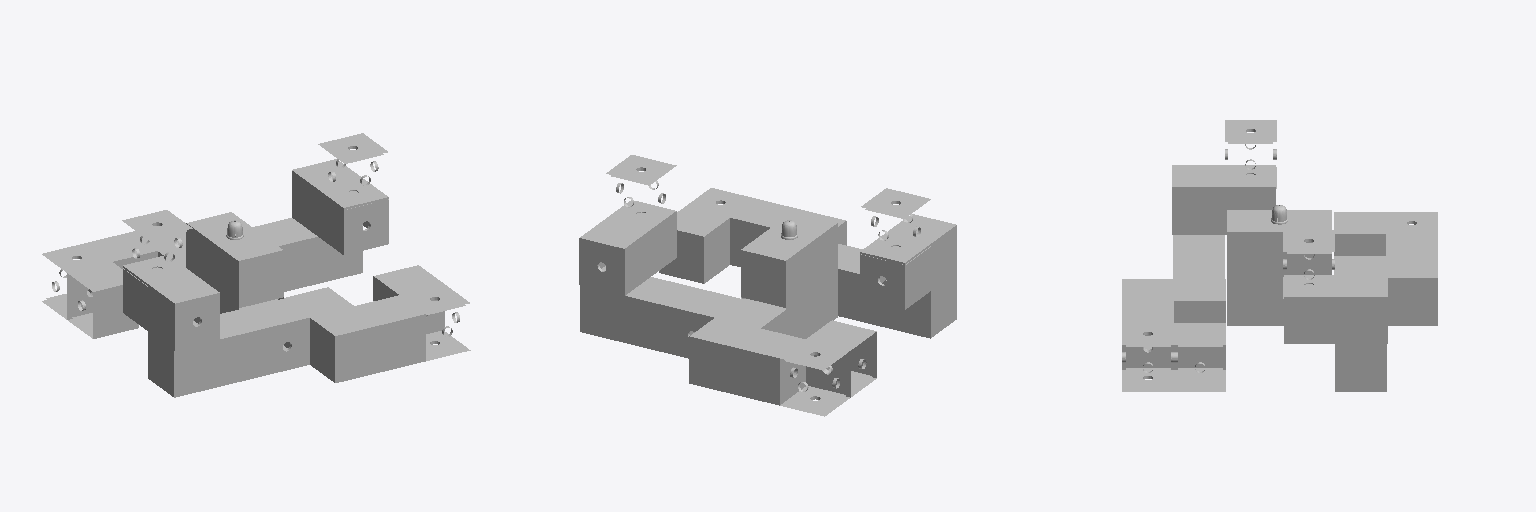
The model's file is KUBO 1 isi.obj.
3 renders of one model, left to right at view 1: azimuth 30°, elevation 25°; view 2: azimuth 150°, elevation 25°; view 3: azimuth 270°, elevation 25°, orthographic.
Bounding box in the file's own units: 180 × 88.62 × 182.